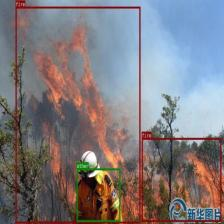fire: (15, 6, 140, 223), (141, 137, 222, 222)
